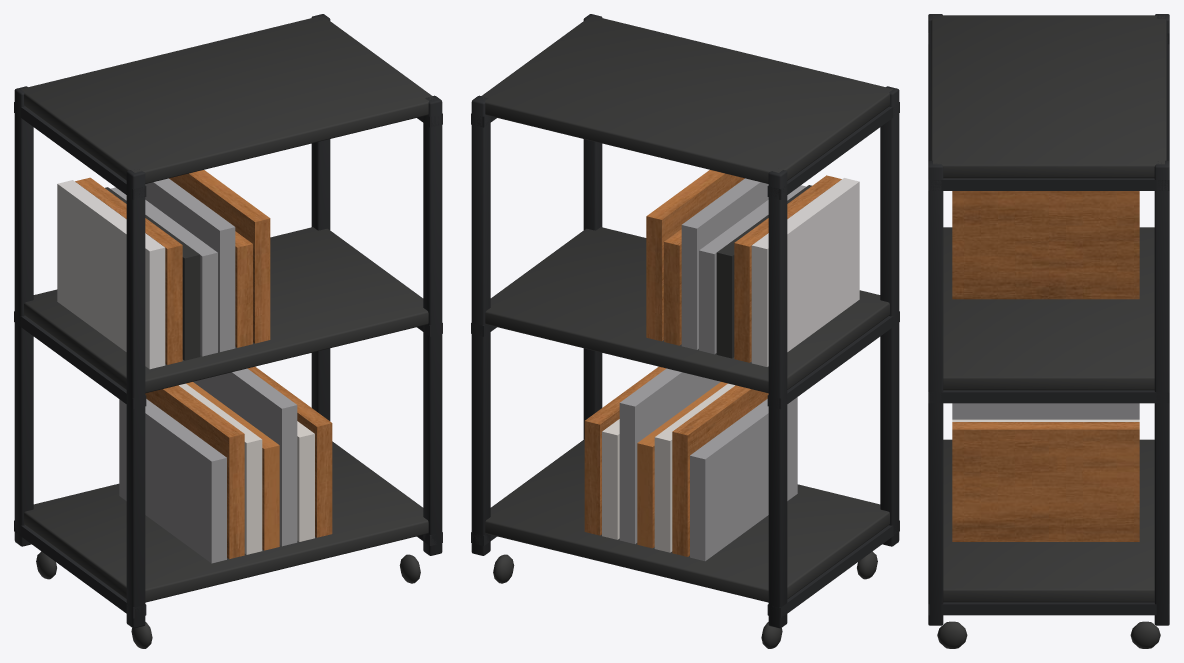
Rendered from utility.it-cart.glb.
3 views of the same model, side by side, from view 1: azimuth 30°, elevation 25°; view 2: azimuth 150°, elevation 25°; view 3: azimuth 270°, elevation 25° (orthographic).
Visible parts, largest first — view 1: utility.it-cart.001; view 2: utility.it-cart.001; view 3: utility.it-cart.001.
Boxes of the visible parts, left/top/right/bottom form: utility.it-cart.001: left=14, top=14, right=442, bottom=648; utility.it-cart.001: left=471, top=14, right=899, bottom=648; utility.it-cart.001: left=928, top=14, right=1169, bottom=648.
Bounding box in the file's own units: 0.6 × 0.9 × 0.4.
Materials: 6 (1 with a texture image).
